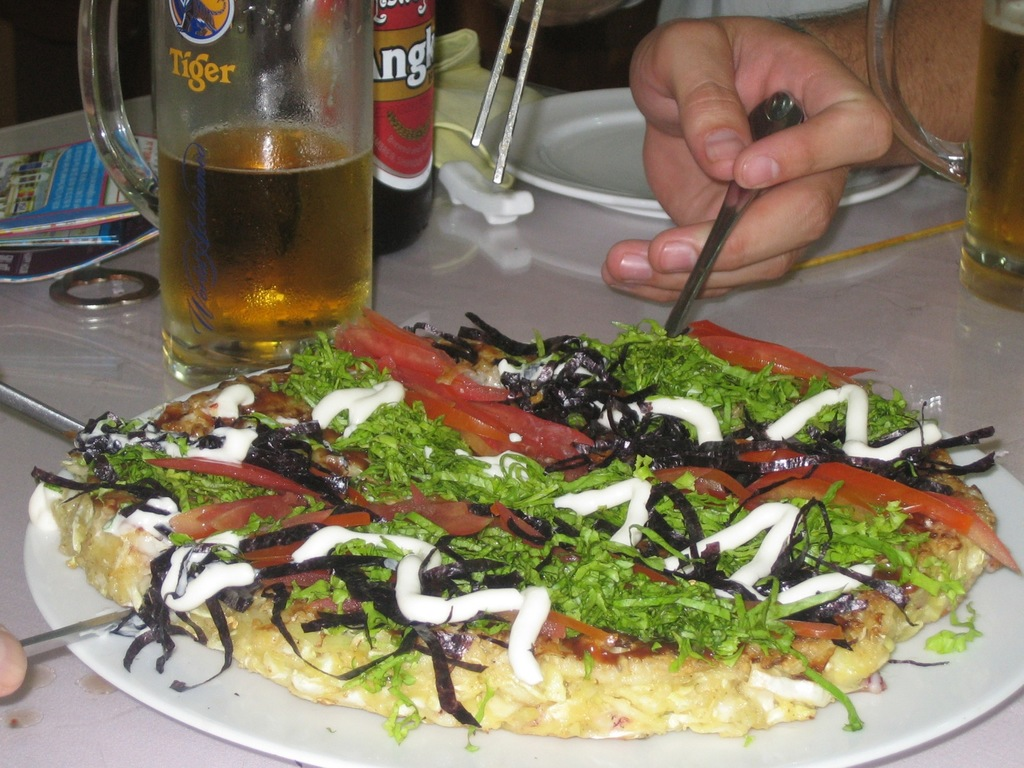pizza: (45, 248, 1007, 728)
